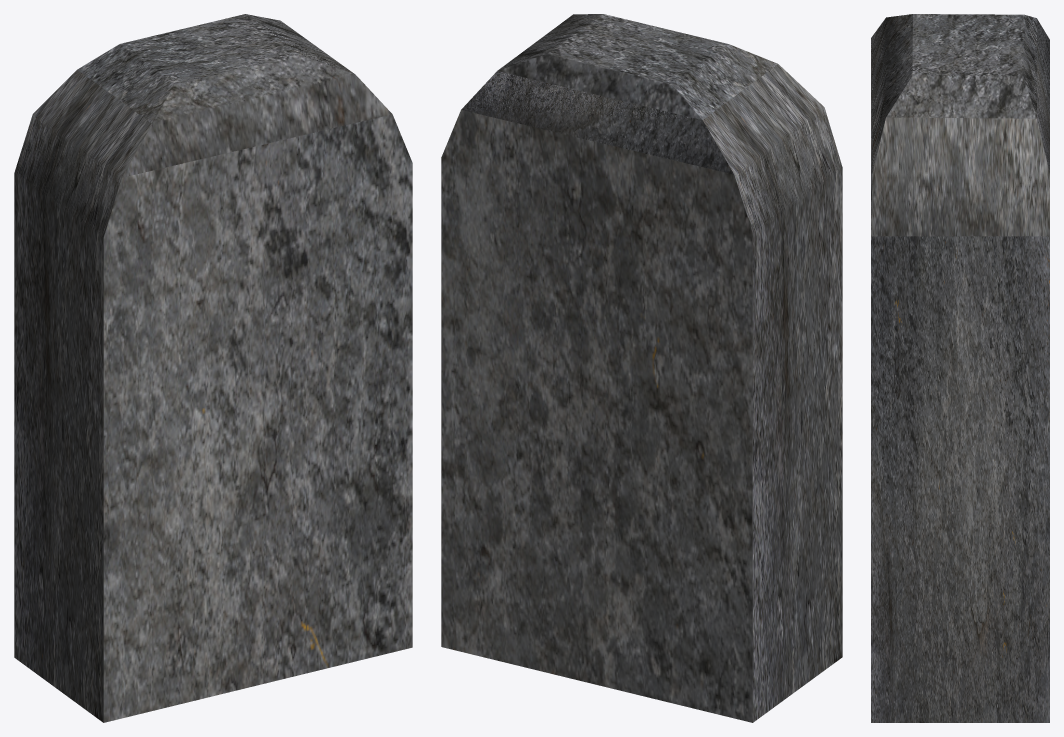
Rendered from headstonebasic_1.fbx.
The picture shows the model from 3 angles, left to right: view 1: azimuth 30°, elevation 25°; view 2: azimuth 150°, elevation 25°; view 3: azimuth 270°, elevation 25°; orthographic projection.
Parts seen in each view (by area): view 1: headstonebasic; view 2: headstonebasic; view 3: headstonebasic.
Part boxes in pixels (x1,y1,x2,y2): headstonebasic: [14, 14, 412, 722]; headstonebasic: [441, 14, 842, 722]; headstonebasic: [871, 14, 1049, 722].
Size of the model in its own units: 1 by 1.86 by 0.5.
1 material, 1 textured.
